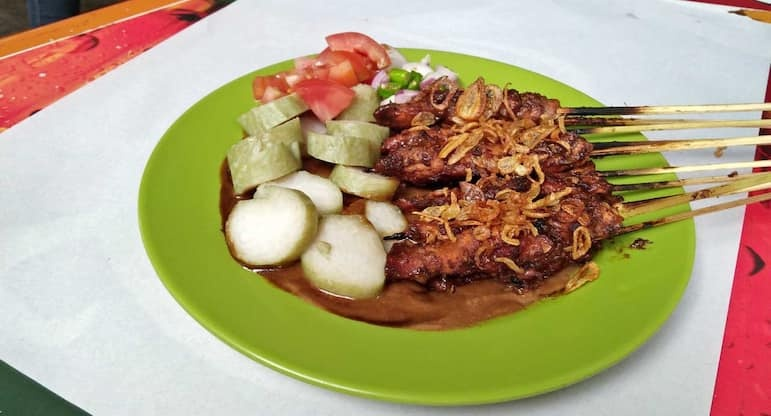sate_madura: (391, 84, 771, 281)
